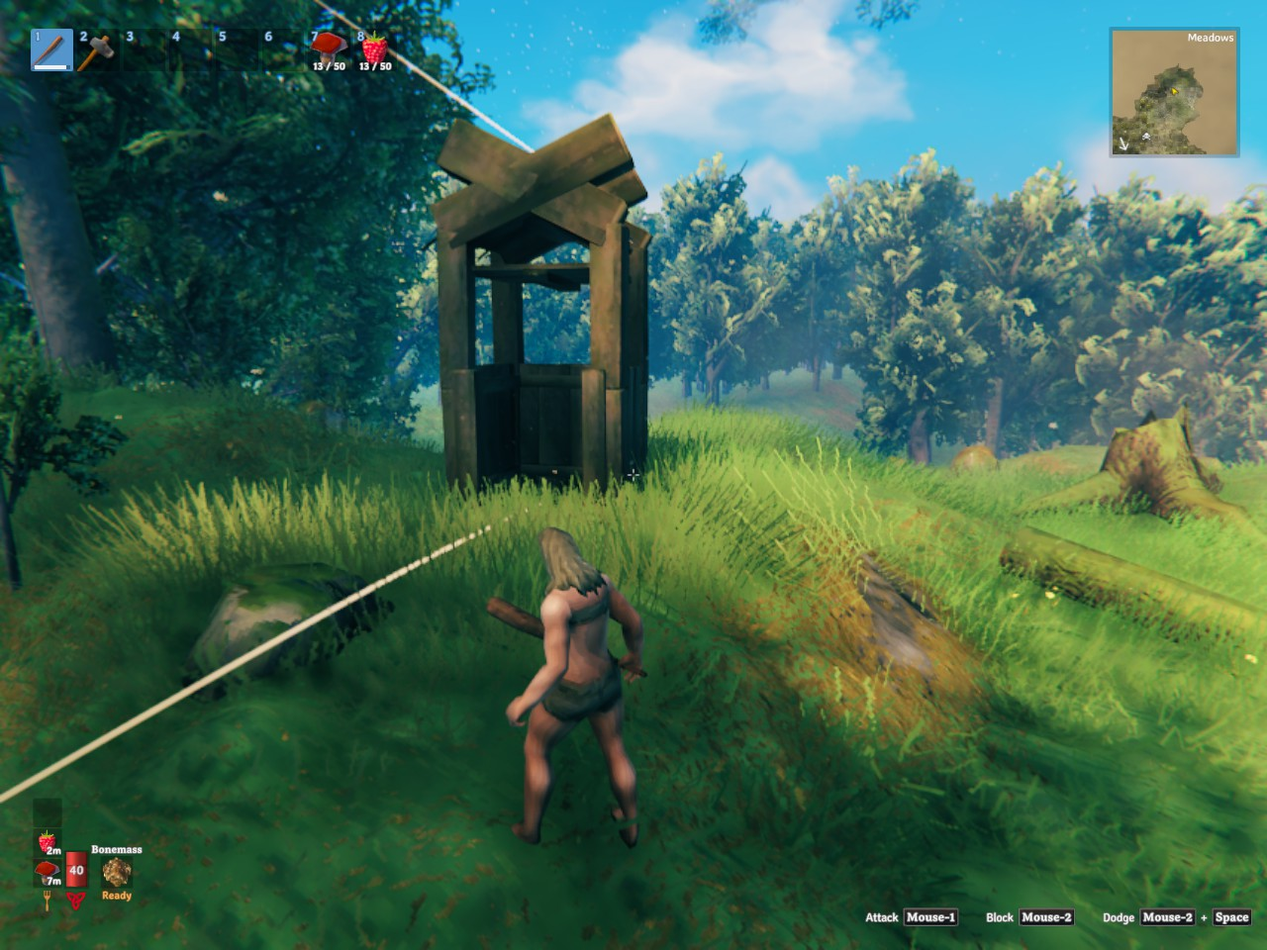House: (423, 110, 662, 490)
